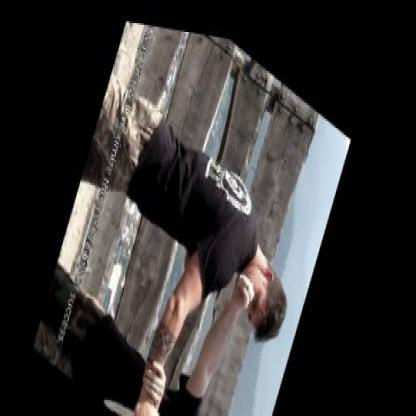knife: (104, 366, 177, 414)
